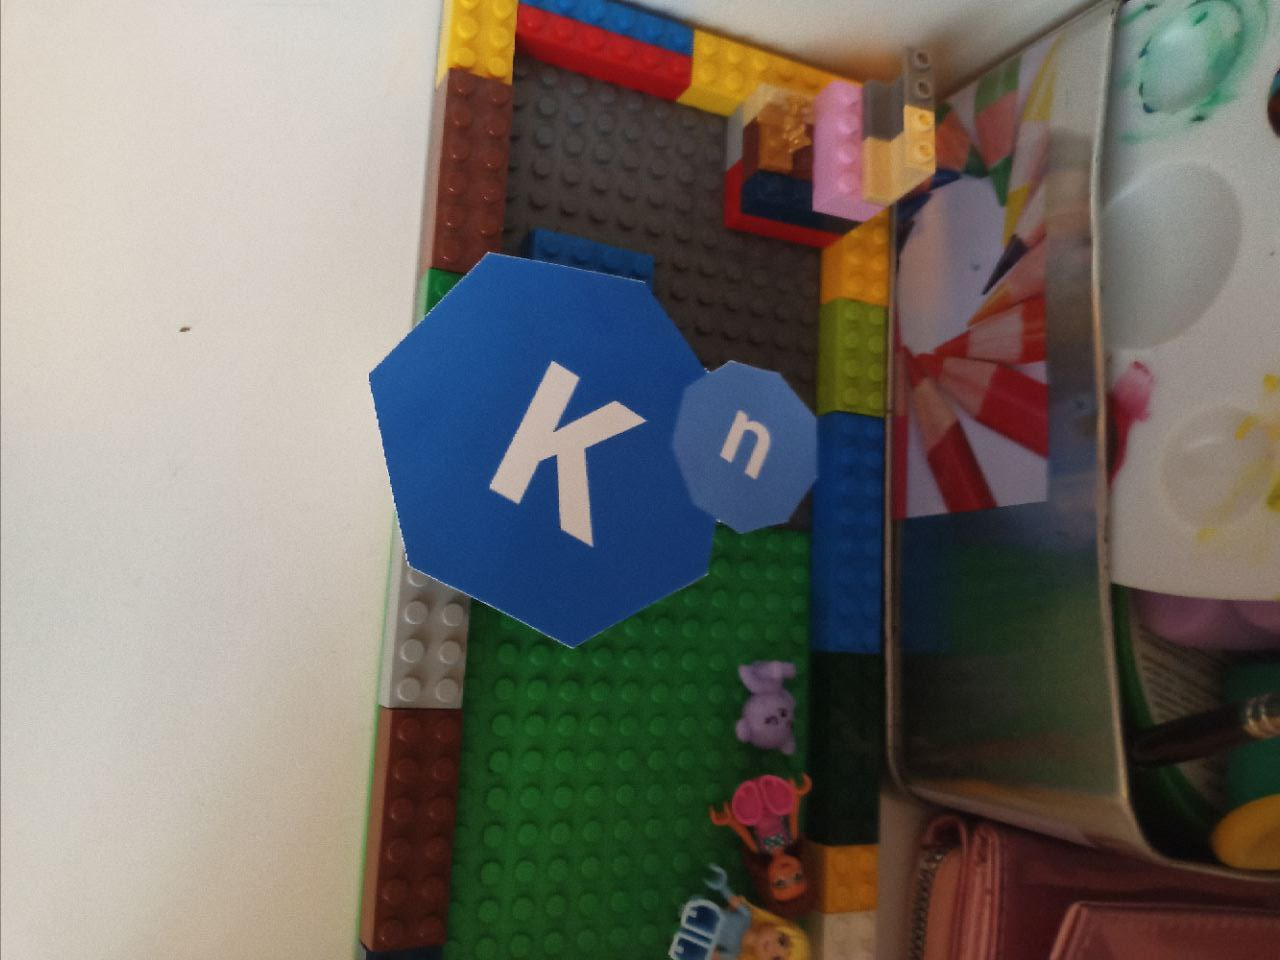knative: (365, 249, 819, 650)
